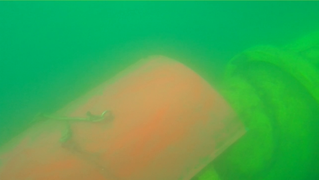leak: (1, 54, 247, 180)
pipe: (189, 28, 318, 180)
